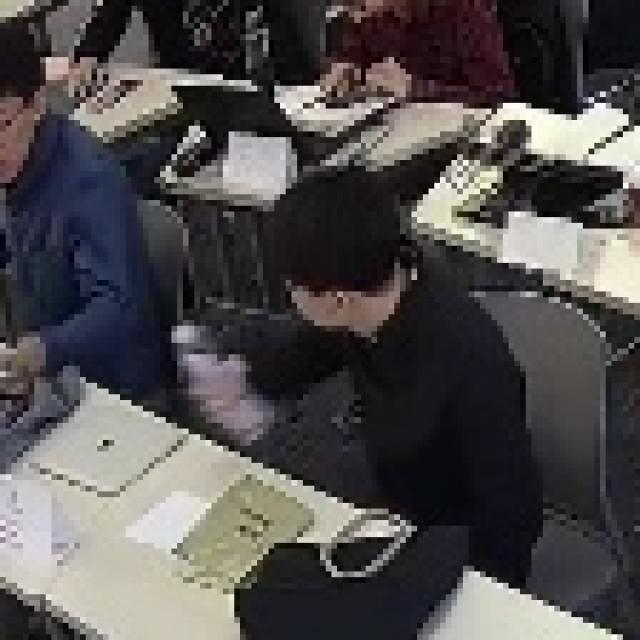trance: (182, 162, 533, 568)
